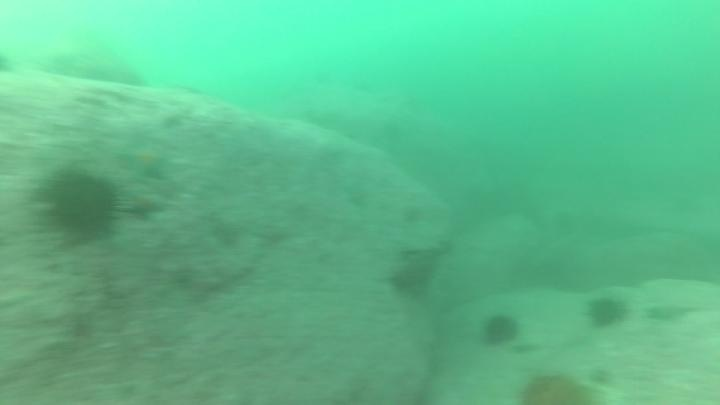echinus: (36, 163, 124, 245), (386, 257, 437, 300), (583, 293, 630, 332), (478, 310, 523, 350)
starfish: (116, 137, 173, 183), (641, 297, 702, 328), (121, 190, 171, 223)
